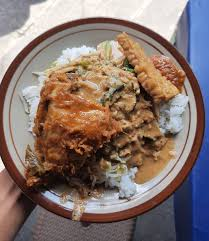Nasi pecel: (20, 30, 191, 195)
